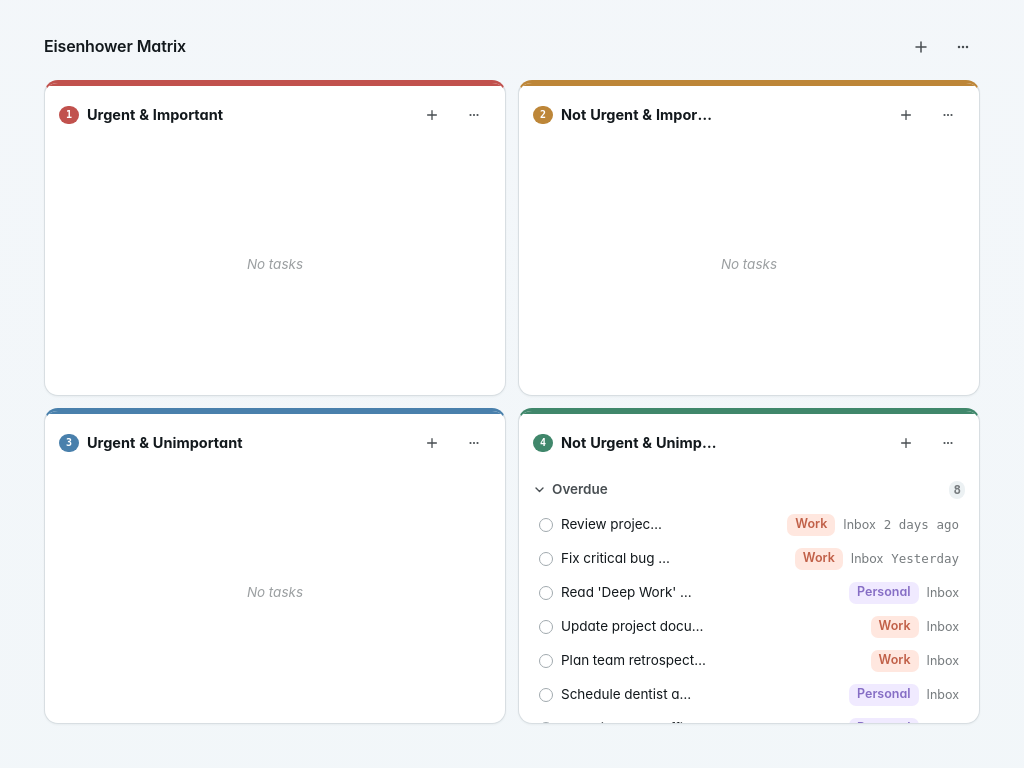
MatrixModule card create › T-MWIRE-2: clicking M-03 quadrant + opens composer with defaultQuadrant=that quadrant
The image size is (1024, 768).
Expected: the element showing "3 Urgent & Unimportant No tasks" is shown, left=44, top=408, right=506, bottom=724
Step 1. Click the 7th button with class "icon-btn" → (432, 443), box left=415, top=426, right=449, bottom=460
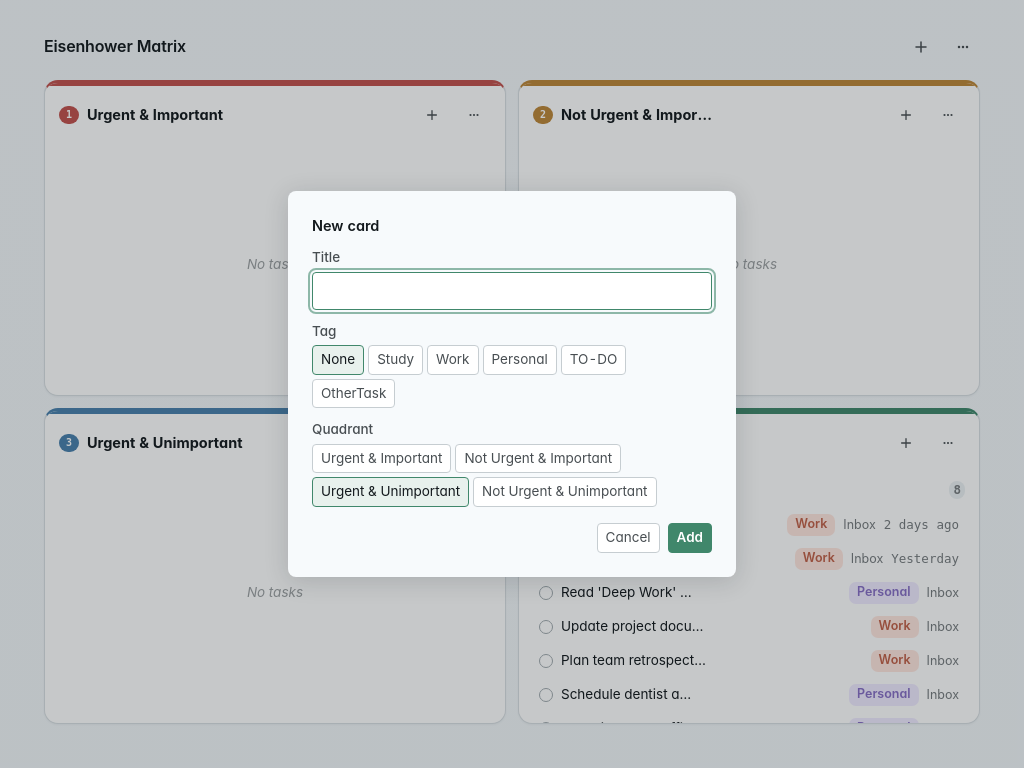
Expected: the radio button labelled "Urgent & Unimportant" is shown, left=312, top=477, right=469, bottom=507
